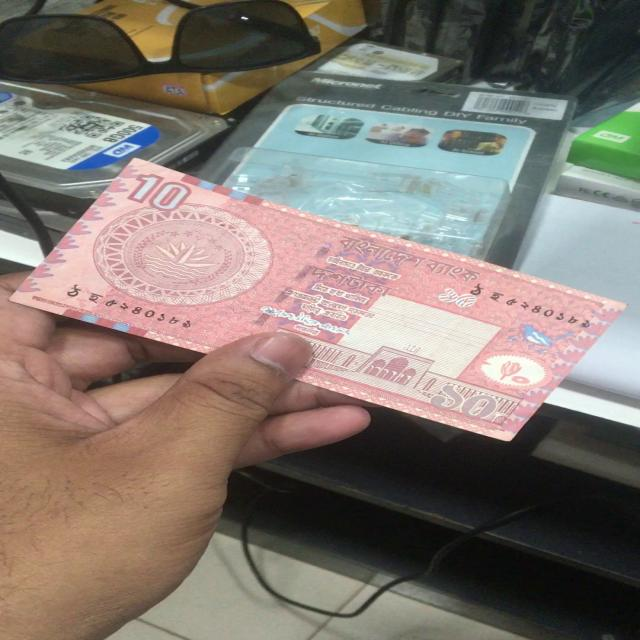Taka: (34, 155, 618, 437)
